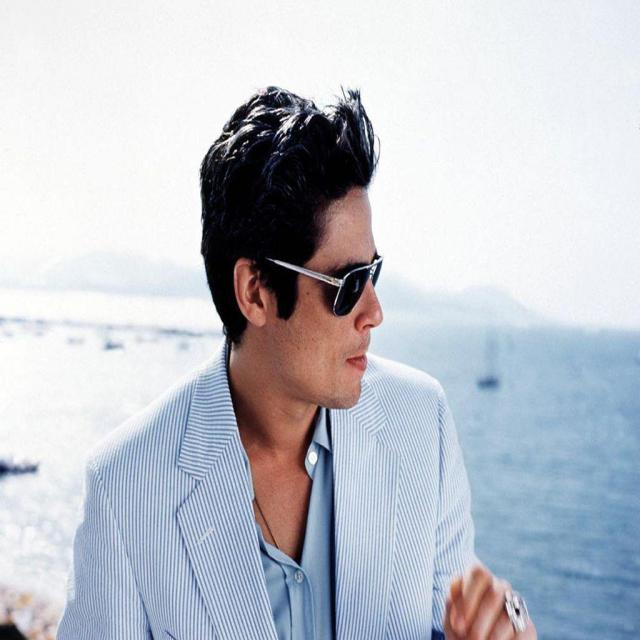no-earmuff: (224, 244, 280, 338)
